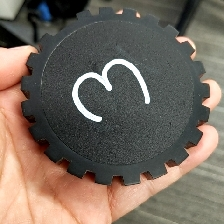gear: (19, 5, 212, 187)
missing: (38, 8, 93, 52)
